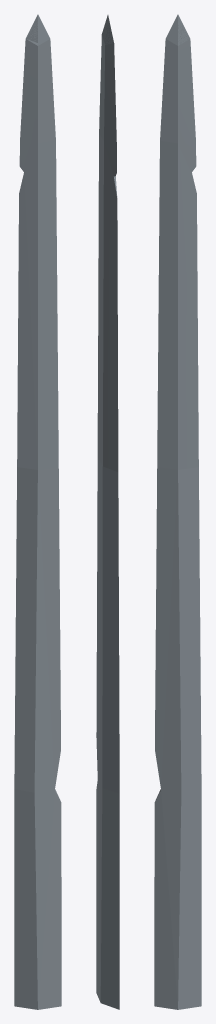
The model's file is kingdom_SM_Wep_Mod_Sword_Blade_06.gltf.
3 views of the same model, side by side, from view 1: azimuth 90°, elevation 25°; view 2: azimuth 210°, elevation 25°; view 3: azimuth 270°, elevation 25° (orthographic).
Parts seen in each view (by area): view 1: SM_Wep_Mod_Sword_Blade_06; view 2: SM_Wep_Mod_Sword_Blade_06; view 3: SM_Wep_Mod_Sword_Blade_06.
Part boxes in pixels (x1=…): SM_Wep_Mod_Sword_Blade_06: x1=14, y1=14, x2=61, y2=1009; SM_Wep_Mod_Sword_Blade_06: x1=96, y1=15, x2=119, y2=1009; SM_Wep_Mod_Sword_Blade_06: x1=154, y1=14, x2=201, y2=1009.
Size of the model in its own units: 0.0188 by 1.21 by 0.0524.
1 material, 1 textured.
